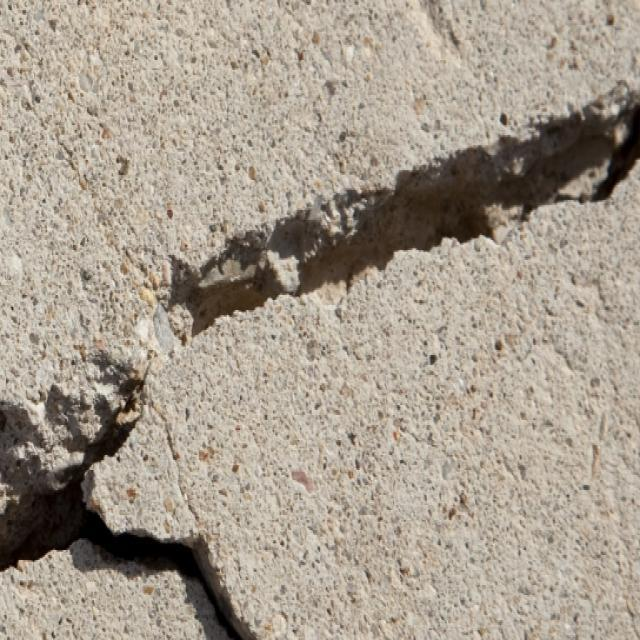Radial: (0, 86, 640, 640)
